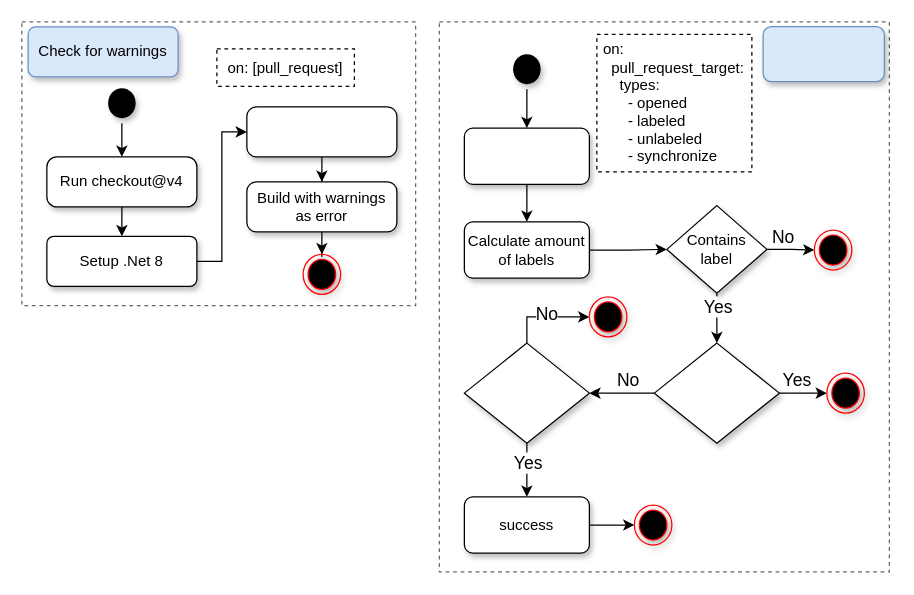
Image size: 914x595. Some labels were removed from this diagram. The centre of each missing label's shape, as x and y in pixels:
"Check for labels (on pull request)" belongs at (x=824, y=55).
"Contains not allowed label" belongs at (x=717, y=394).
"Dotnet restore" belongs at (x=322, y=133).
"Get pull requests labels" belongs at (x=527, y=157).
"Label combination is allowed" belongs at (x=527, y=394).
